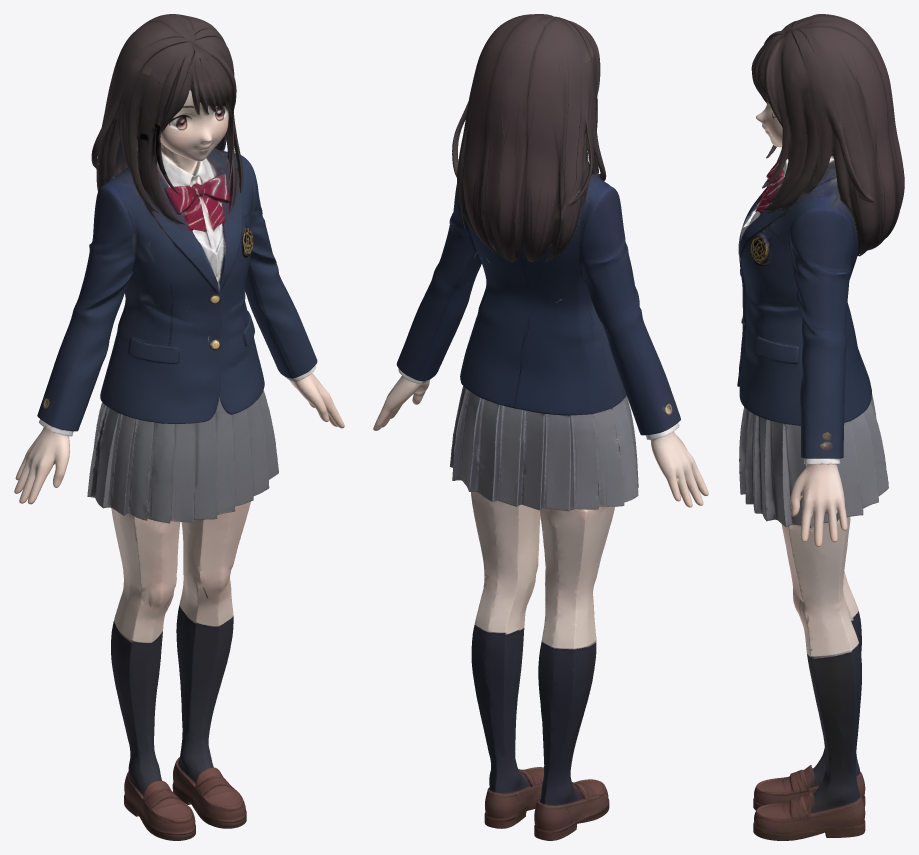
Rendered from Suit_Male.glb.
3 views of the same model, side by side, from view 1: azimuth 30°, elevation 25°; view 2: azimuth 150°, elevation 25°; view 3: azimuth 270°, elevation 25° (orthographic).
Parts seen in each view (by area): view 1: mesh_node; view 2: mesh_node; view 3: mesh_node.
Part boxes in pixels (x1,y1,x2,y2): mesh_node: [14, 14, 344, 840]; mesh_node: [373, 14, 708, 840]; mesh_node: [737, 14, 904, 840].
Bounding box in the file's own units: 0.6783 × 1.6 × 0.3039.
1 material, 1 textured.
